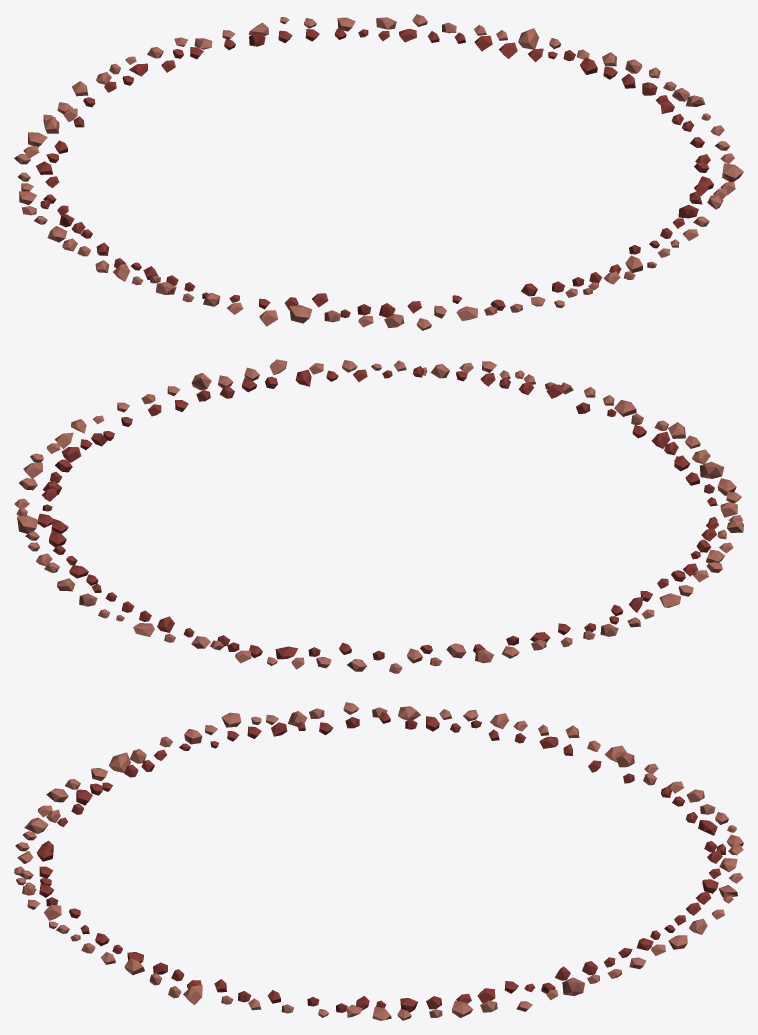
File: Gas_Giant_05_Ring_02_LOD0.fbx
3 views of the same model, one above another, from view 1: azimuth 30°, elevation 25°; view 2: azimuth 150°, elevation 25°; view 3: azimuth 270°, elevation 25° (orthographic).
Parts seen in each view (by area): view 1: Gas_Giant_05_Ring_02_LOD0; view 2: Gas_Giant_05_Ring_02_LOD0; view 3: Gas_Giant_05_Ring_02_LOD0.
Part boxes in pixels (x1,y1,x2,y2): Gas_Giant_05_Ring_02_LOD0: (14, 14, 743, 330); Gas_Giant_05_Ring_02_LOD0: (14, 359, 743, 673); Gas_Giant_05_Ring_02_LOD0: (14, 702, 743, 1020).
Size of the model in its own units: 34808 by 1168 by 34547.
